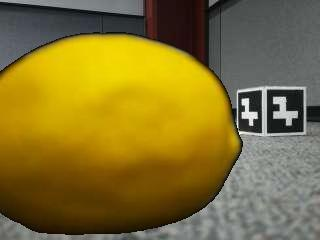lemon: (0, 34, 244, 236)
